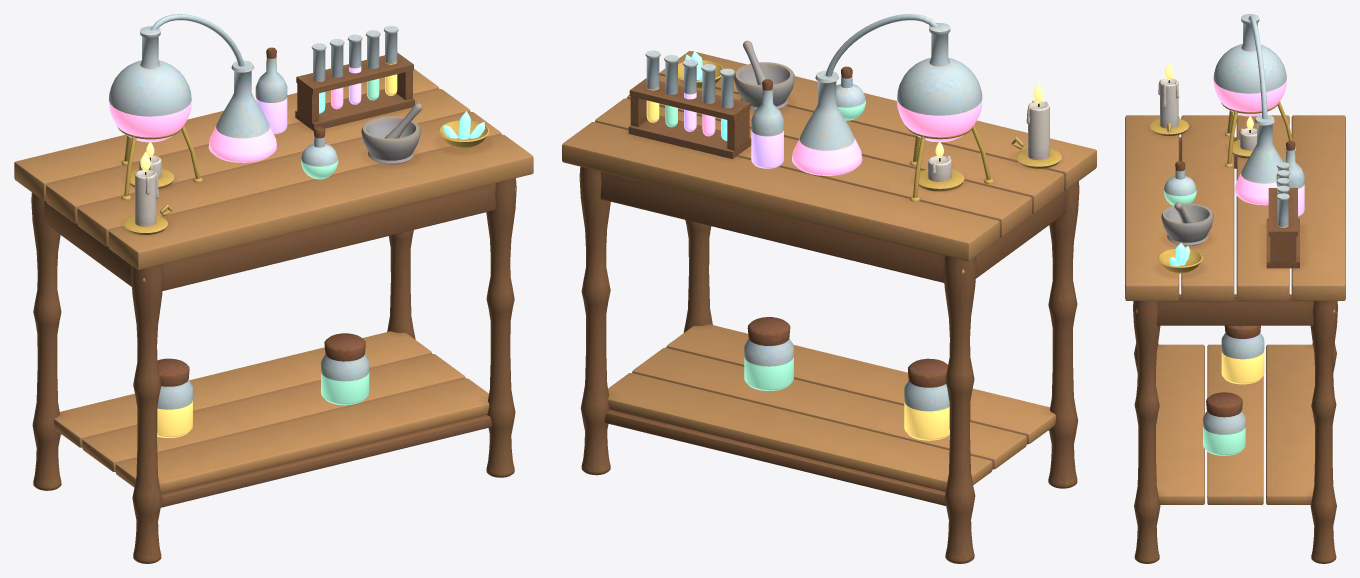
File: alchemy-table.glb
3 views of the same model, side by side, from view 1: azimuth 30°, elevation 25°; view 2: azimuth 150°, elevation 25°; view 3: azimuth 270°, elevation 25° (orthographic). The views are drawn at different scales.
Visible parts, largest first — view 1: alchemy-table_body, alchemy-table_liquid_glow; view 2: alchemy-table_body, alchemy-table_liquid_glow; view 3: alchemy-table_body, alchemy-table_liquid_glow.
Part boxes in pixels (x1=…): alchemy-table_body: x1=14, y1=14, x2=533, y2=563; alchemy-table_liquid_glow: x1=108, y1=62, x2=485, y2=437; alchemy-table_body: x1=562, y1=14, x2=1096, y2=563; alchemy-table_liquid_glow: x1=646, y1=51, x2=982, y2=440; alchemy-table_body: x1=1125, y1=14, x2=1345, y2=563; alchemy-table_liquid_glow: x1=1164, y1=78, x2=1304, y2=455.
Size of the model in its own units: 1.1 by 1.27 by 0.6.
7 materials, 1 textured.
